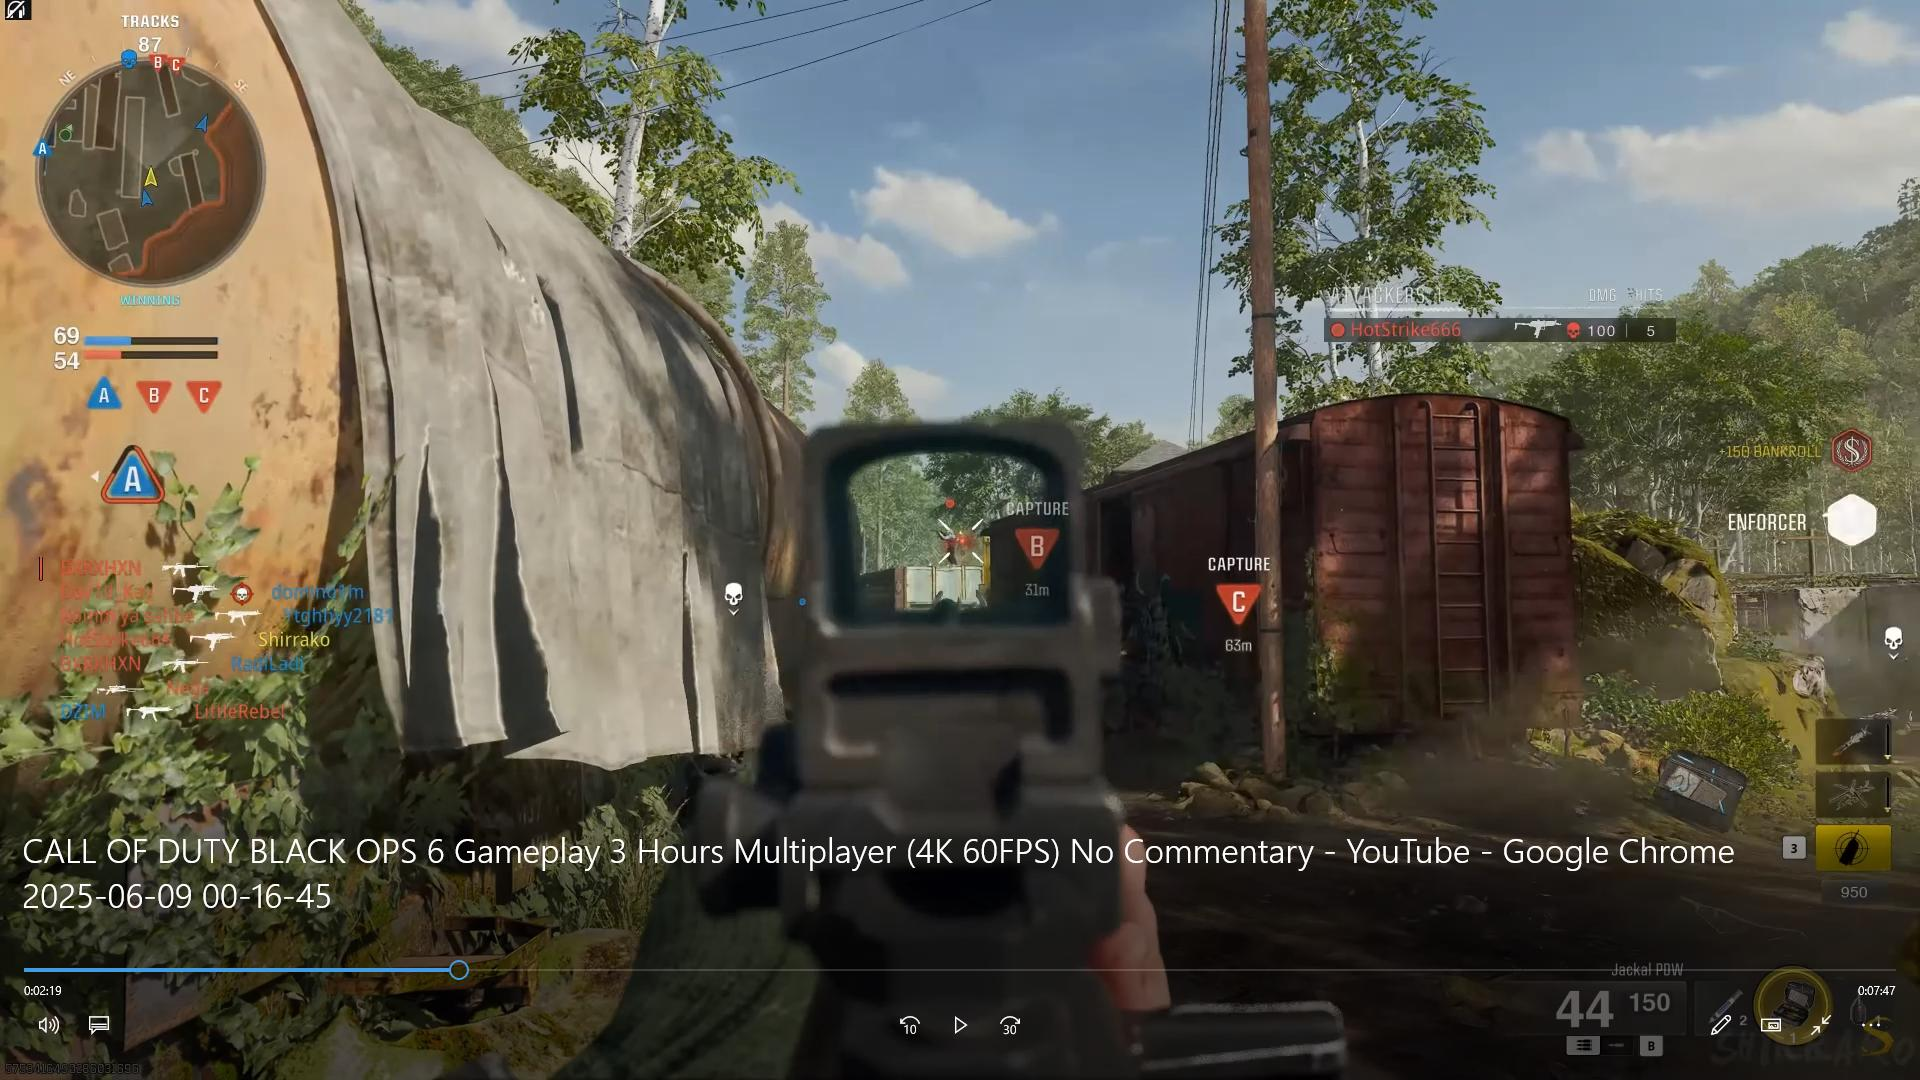Enemy: (928, 524, 964, 572)
